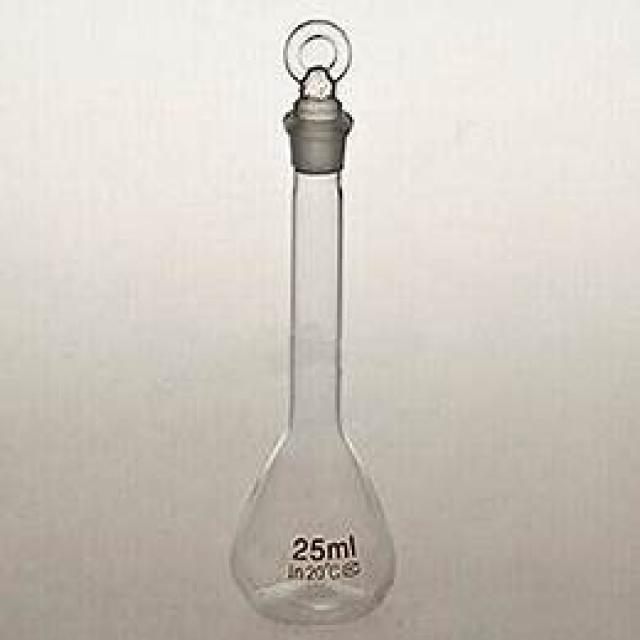Volumetric flask: (230, 11, 404, 612)
